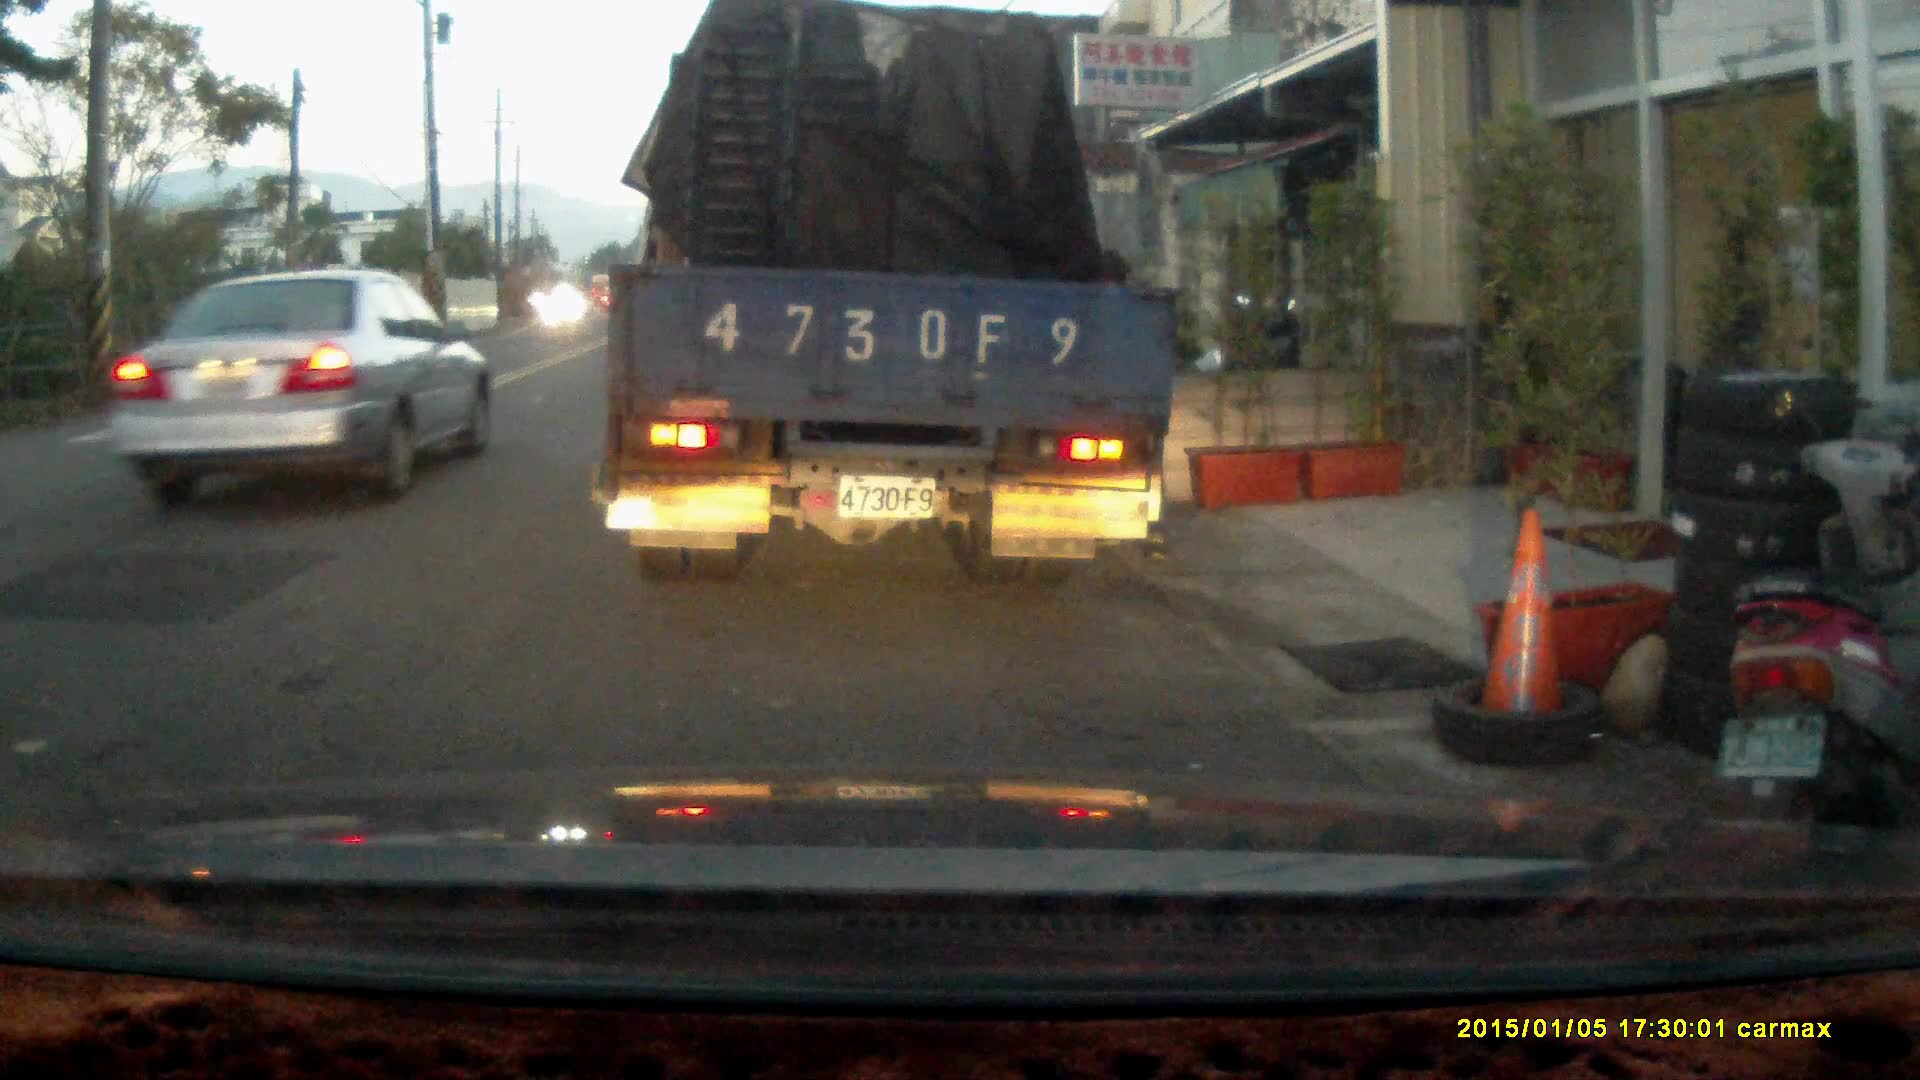pedestrian: (1691, 226, 1779, 476)
vehicle: (605, 23, 1188, 572), (112, 269, 496, 495)
